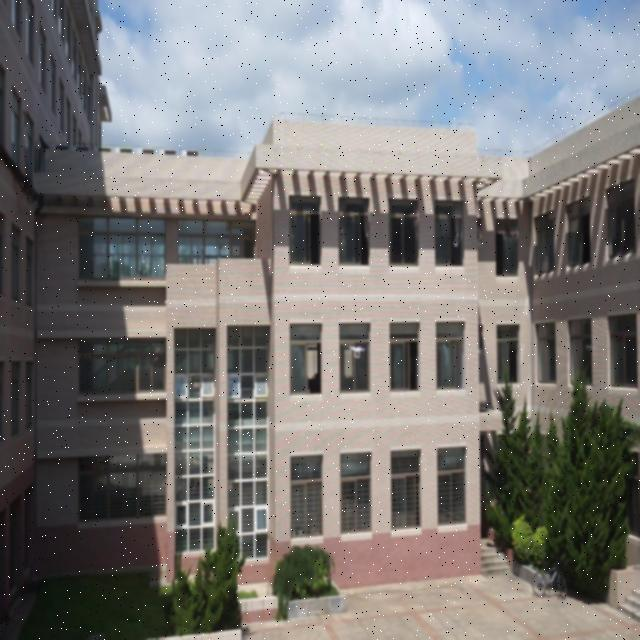UAV: (349, 346, 365, 358)
